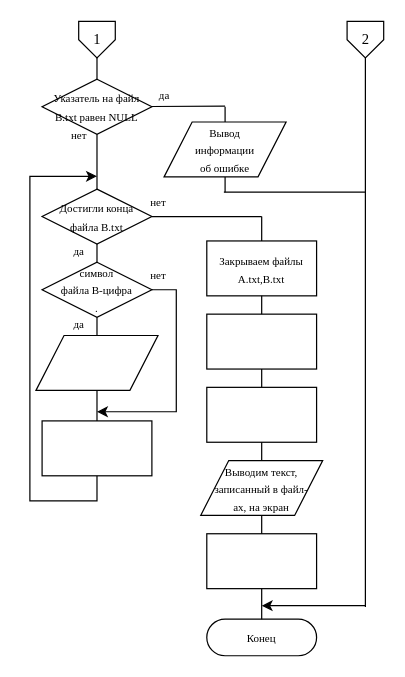
This 405x677 diagram has some shape labels left out. The box of each missing label's shape, as (x1, y1, x2, y2) in pixels:
Возвращаем указатель файла B.txt на начало файла: (206, 313, 317, 369)
Добавляем этот символ в конец файла А: (35, 334, 158, 390)
Закрываем все файлы: (206, 533, 317, 589)
Открываем файлы A.txt,B.txt,C.txt в режиме чтения: (206, 386, 317, 442)
Переходим на следующий символ файла B: (41, 420, 152, 476)
